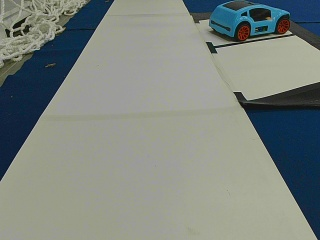car: (209, 3, 291, 40)
